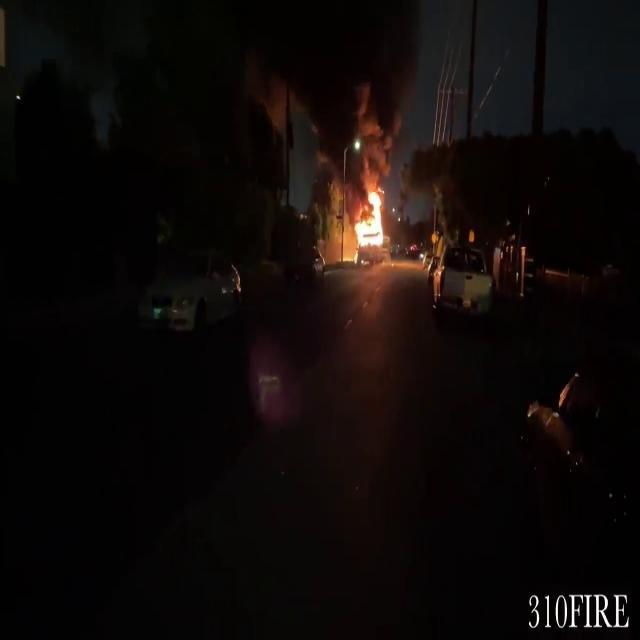Fire: (352, 183, 392, 257)
